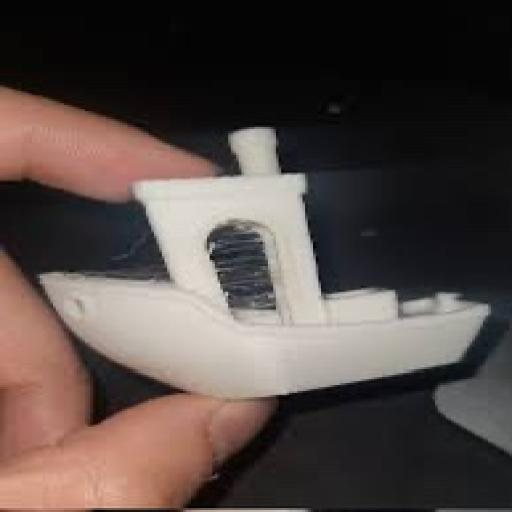stringing: (212, 224, 275, 308)
